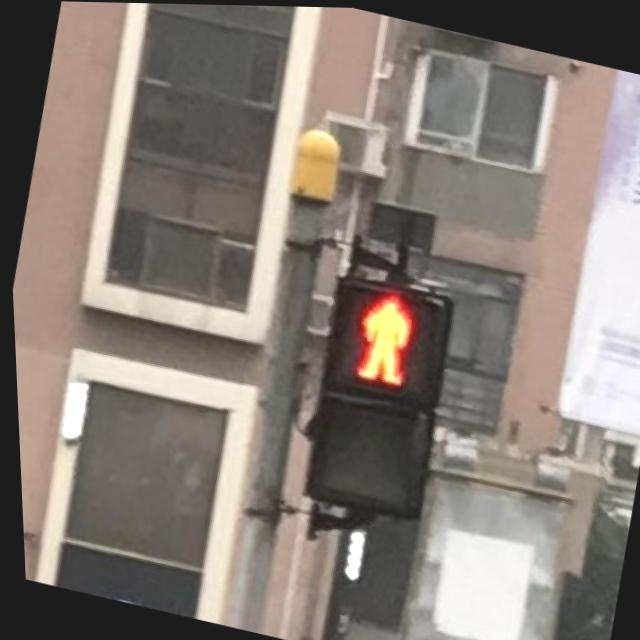red_light: (317, 273, 441, 396)
